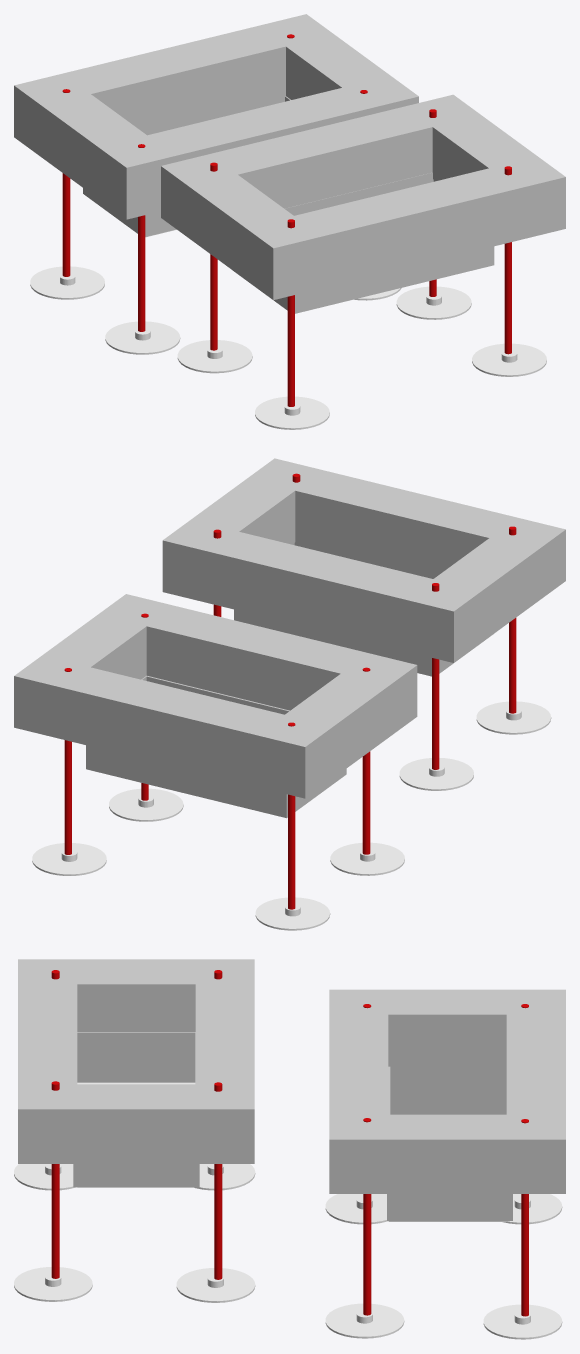
The model's file is binrect.fbx.
The picture shows the model from 3 angles, top to bottom: view 1: azimuth 30°, elevation 25°; view 2: azimuth 150°, elevation 25°; view 3: azimuth 270°, elevation 25°; orthographic projection. The views are drawn at different scales.
Visible parts, largest first — view 1: Cylinder.001, Cylinder.002; view 2: Cylinder.002, Cylinder.001; view 3: Cylinder.002, Cylinder.001.
Part boxes in pixels (<box>): Cylinder.001: <box>161,94,565,429</box>; Cylinder.002: <box>14,14,418,354</box>; Cylinder.002: <box>14,594,417,930</box>; Cylinder.001: <box>162,458,565,790</box>; Cylinder.002: <box>325,989,565,1339</box>; Cylinder.001: <box>14,959,255,1302</box>.
Bounding box in the file's own units: 90.35 × 66.25 × 140.
